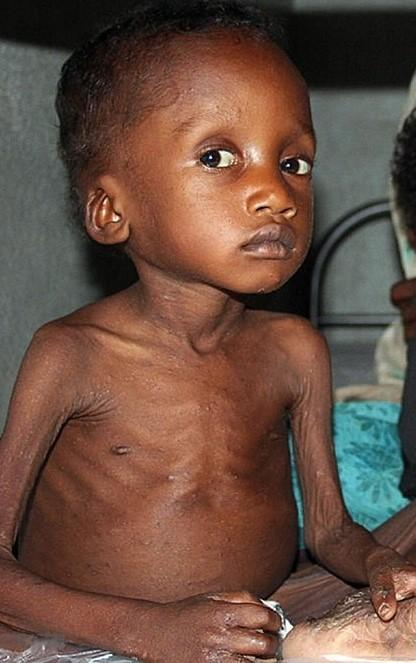Stunting: (50, 63, 328, 342)
